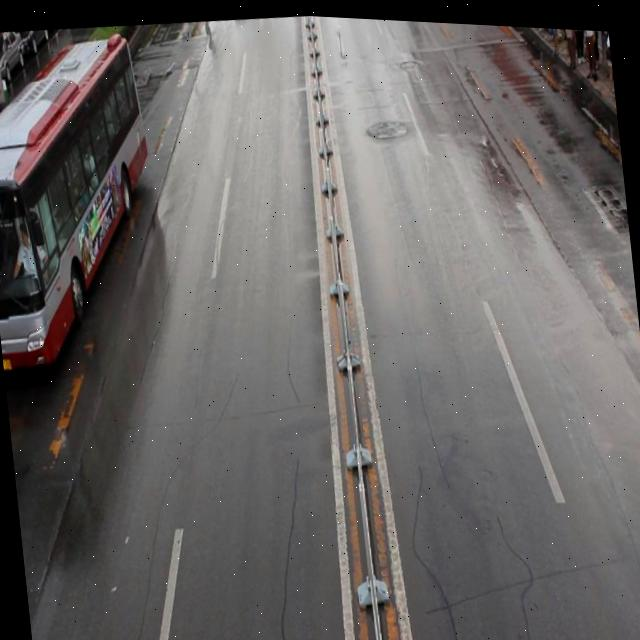van: (0, 25, 168, 375)
